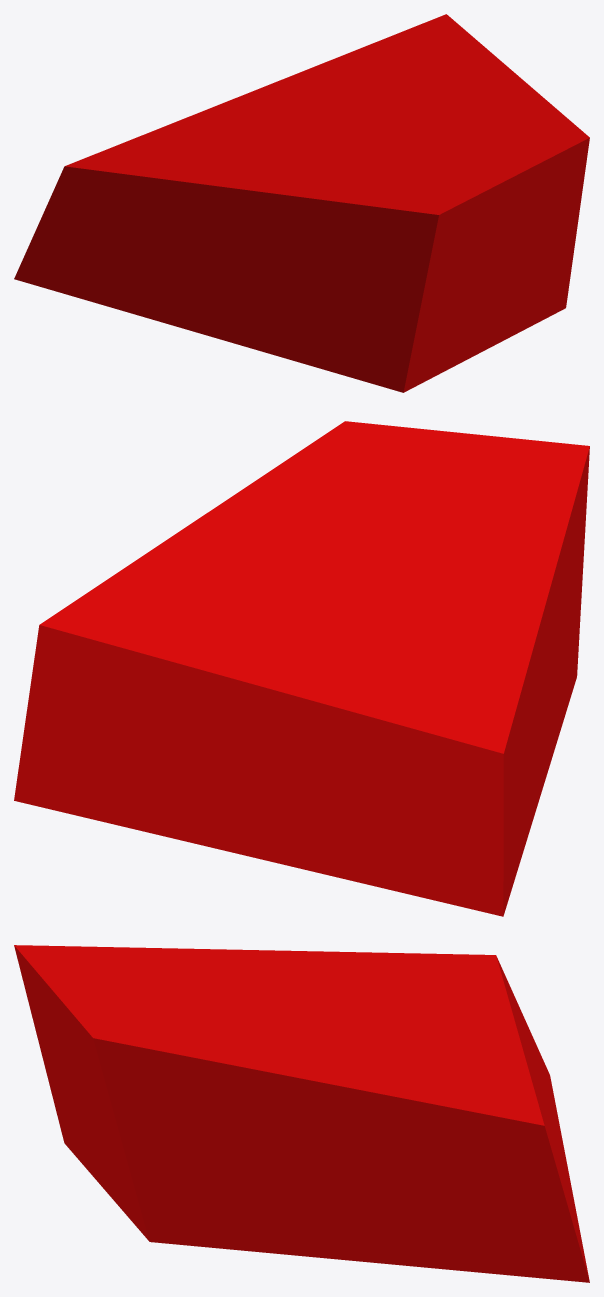
Rendered from SM_Env_RoadPiece_Damaged_10_Collision.fbx.
The picture shows the model from 3 angles, top to bottom: view 1: azimuth 30°, elevation 25°; view 2: azimuth 150°, elevation 25°; view 3: azimuth 270°, elevation 25°; orthographic projection. The views are drawn at different scales.
Parts seen in each view (by area): view 1: SM_Env_RoadPiece_Damaged_10_Collision; view 2: SM_Env_RoadPiece_Damaged_10_Collision; view 3: SM_Env_RoadPiece_Damaged_10_Collision.
Part boxes in pixels (x1=…): SM_Env_RoadPiece_Damaged_10_Collision: x1=14, y1=14, x2=589, y2=392; SM_Env_RoadPiece_Damaged_10_Collision: x1=14, y1=421, x2=589, y2=916; SM_Env_RoadPiece_Damaged_10_Collision: x1=14, y1=945, x2=589, y2=1282.
Bounding box in the file's own units: 163 × 76.05 × 177.
